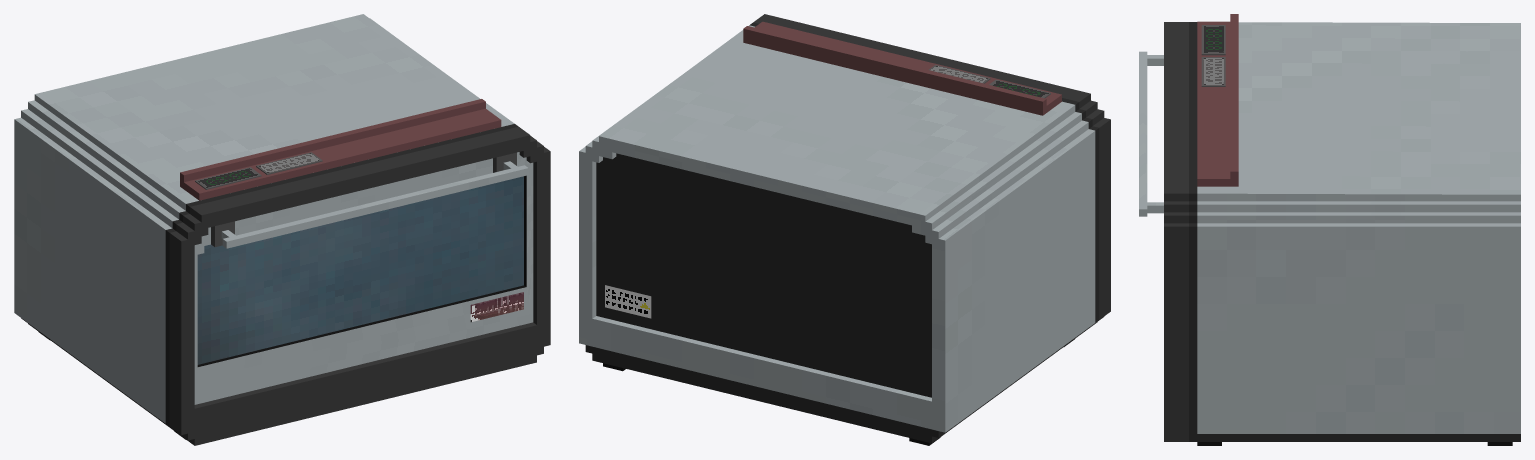
Rendered from ConvectionOven.fbx.
The picture shows the model from 3 angles, left to right: view 1: azimuth 30°, elevation 25°; view 2: azimuth 150°, elevation 25°; view 3: azimuth 270°, elevation 25°; orthographic projection. The views are drawn at different scales.
Visible parts, largest first — view 1: Oven, Oven_Door, Oven_Glass; view 2: Oven, Oven_Door; view 3: Oven, Oven_Door.
Part boxes in pixels (x1=…): Oven: x1=14, y1=14, x2=518, y2=439; Oven_Door: x1=169, y1=126, x2=550, y2=445; Oven_Glass: x1=197, y1=176, x2=523, y2=364; Oven: x1=579, y1=21, x2=1099, y2=445; Oven_Door: x1=753, y1=14, x2=1110, y2=330; Oven: x1=1189, y1=14, x2=1520, y2=445; Oven_Door: x1=1139, y1=22, x2=1188, y2=441.
Bounding box in the file's own units: 36.81 × 23.82 × 30.83.
